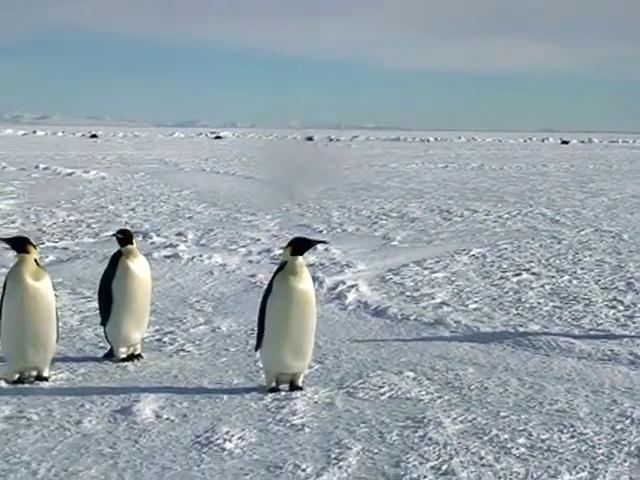animal: (256, 239, 325, 393)
